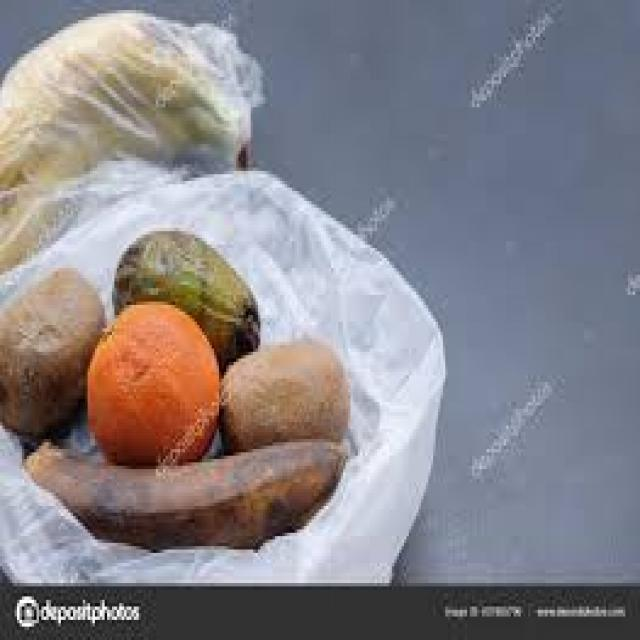organic waste: (0, 7, 248, 264), (22, 432, 341, 546), (83, 295, 219, 466), (112, 228, 258, 365), (0, 264, 102, 436), (217, 328, 351, 449)
